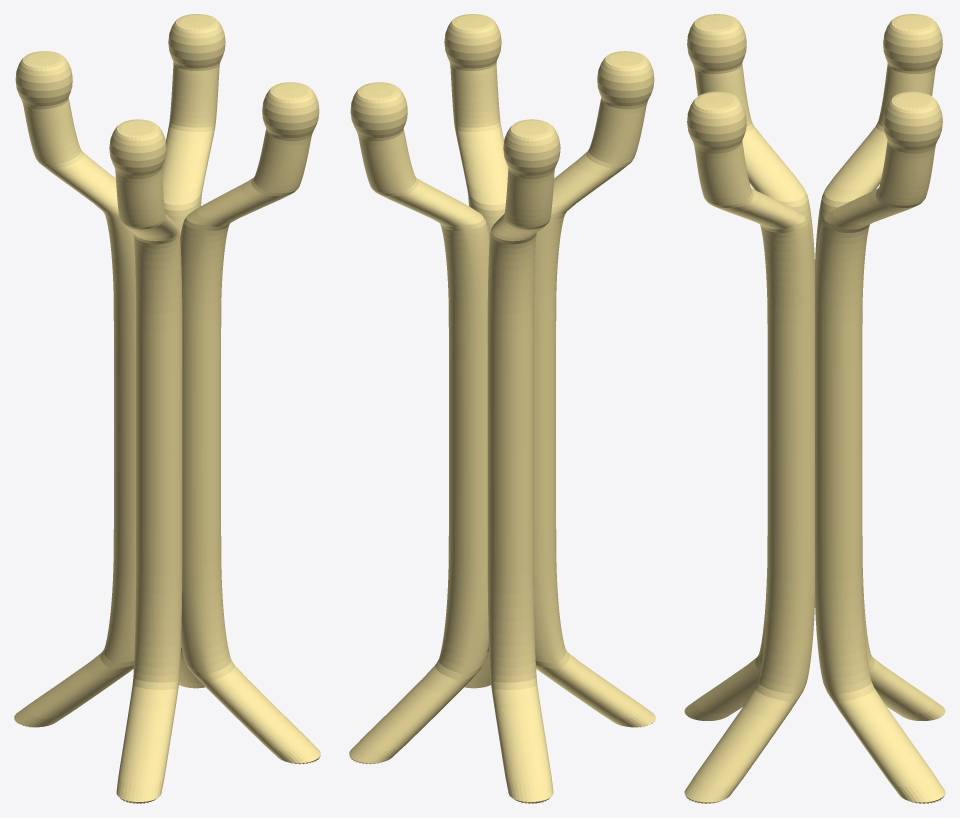
File: clothe_changer.fbx
3 renders of one model, left to right at view 1: azimuth 30°, elevation 25°; view 2: azimuth 150°, elevation 25°; view 3: azimuth 270°, elevation 25°, orthographic. The views are drawn at different scales.
Parts seen in each view (by area): view 1: Cylinder; view 2: Cylinder; view 3: Cylinder.
Part boxes in pixels (x1,y1,x2,y2): Cylinder: (14, 14, 320, 803); Cylinder: (349, 14, 655, 803); Cylinder: (684, 14, 945, 803).
Size of the model in its own units: 76.13 by 239 by 81.42.
